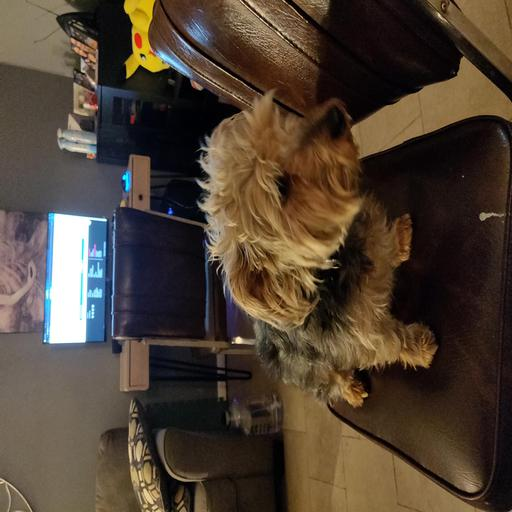dog: (205, 115, 408, 318)
